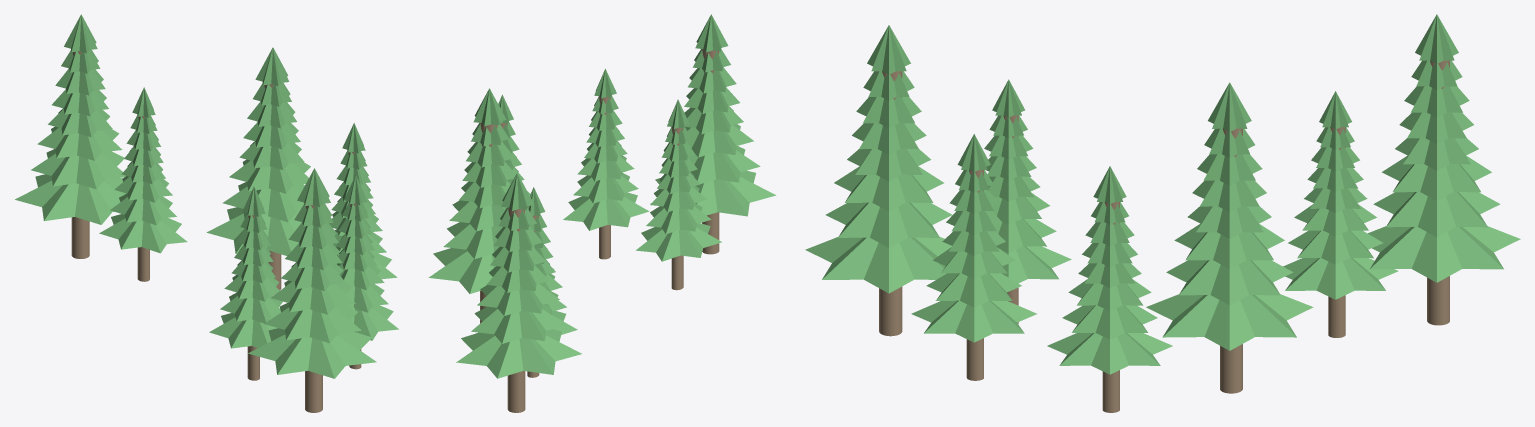
File: Copy of Copy of Design a Park Challenge (2).glb
3 views of the same model, side by side, from view 1: azimuth 30°, elevation 25°; view 2: azimuth 150°, elevation 25°; view 3: azimuth 270°, elevation 25° (orthographic). The views are drawn at different scales.
Visible parts, largest first — view 1: Mesh_Mesh_head_geo.001_lambert2SG.001; view 2: Mesh_Mesh_head_geo.001_lambert2SG.001; view 3: Mesh_Mesh_head_geo.001_lambert2SG.001.
Boxes of the visible parts, x1,y1,x2,y2 form: Mesh_Mesh_head_geo.001_lambert2SG.001: (15, 14, 398, 412); Mesh_Mesh_head_geo.001_lambert2SG.001: (428, 14, 776, 412); Mesh_Mesh_head_geo.001_lambert2SG.001: (805, 14, 1520, 412).
Bounding box in the file's own units: 149 × 147 × 311.
